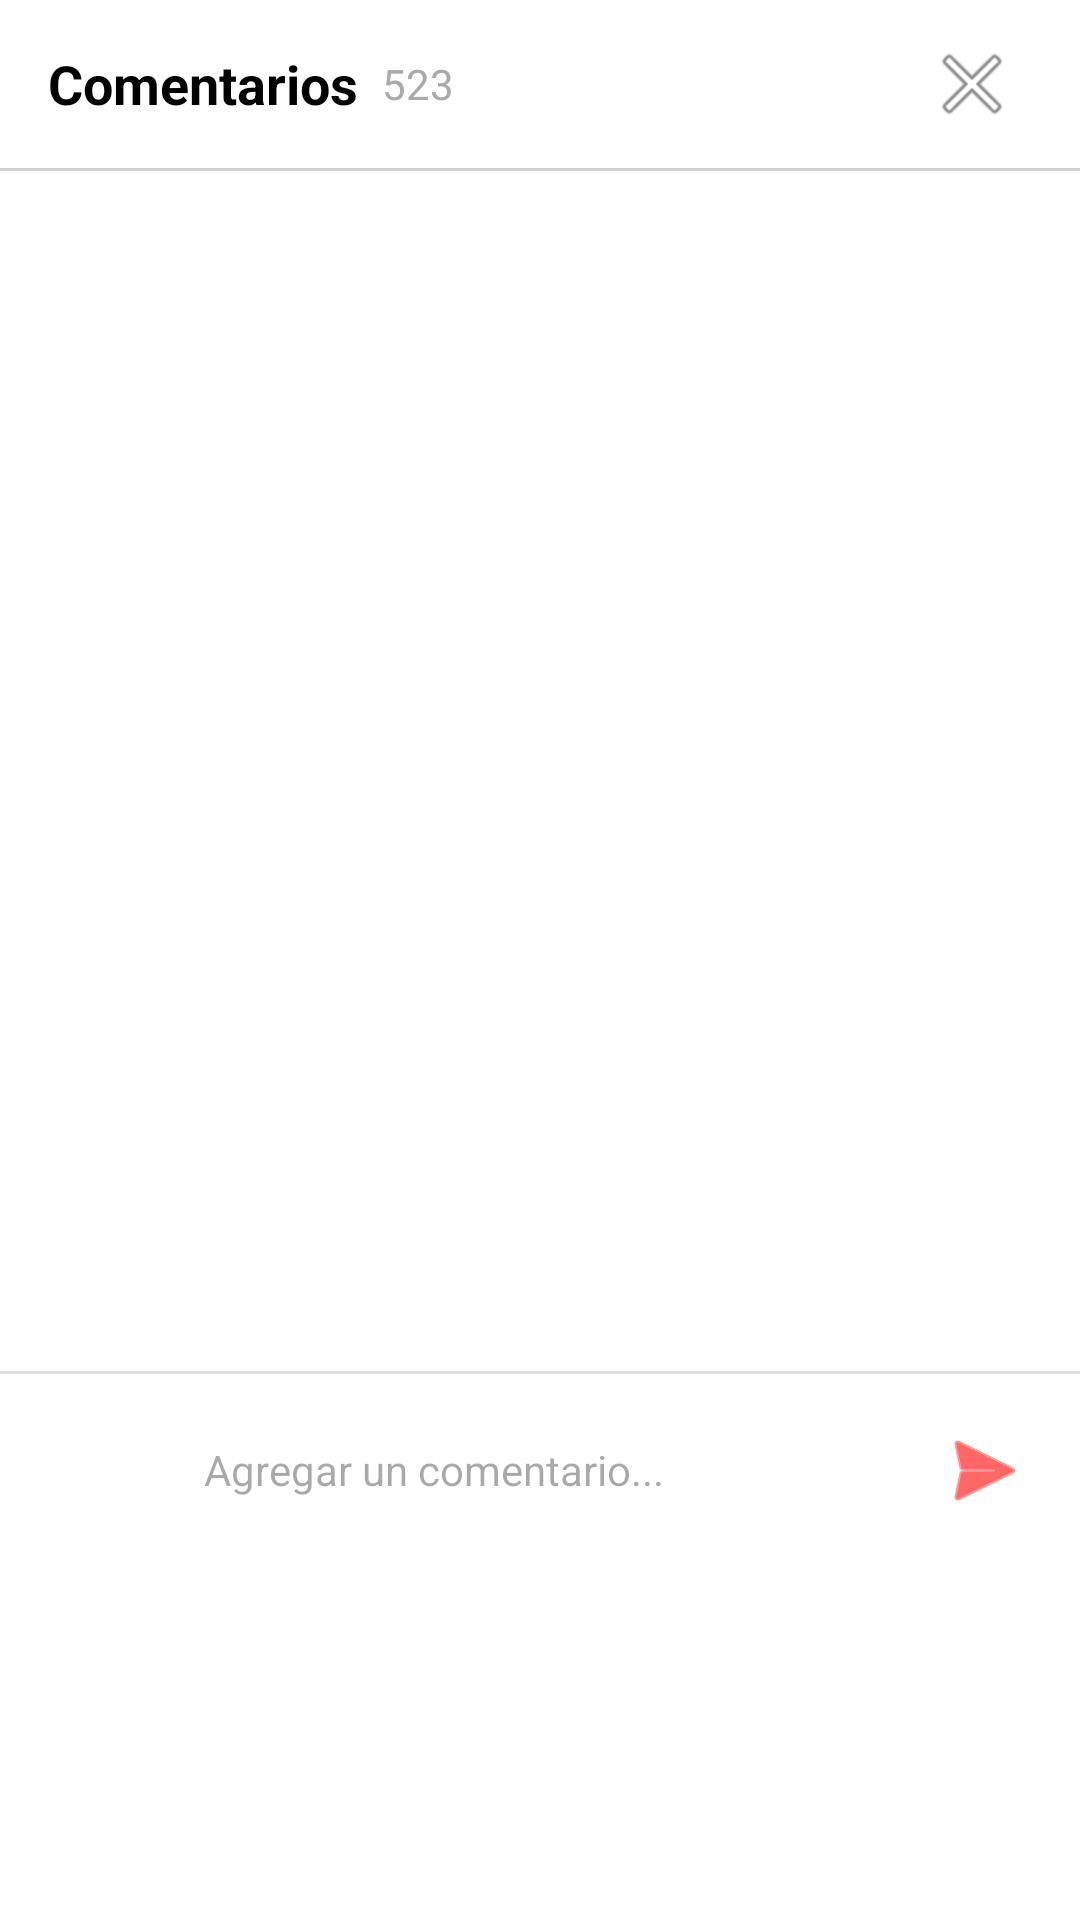

Icon click points for this 1080 x 1920 phone screenshot, format point (x, y):
Cerrar: point (972, 84)
Enviar comentario: point (985, 1470)
